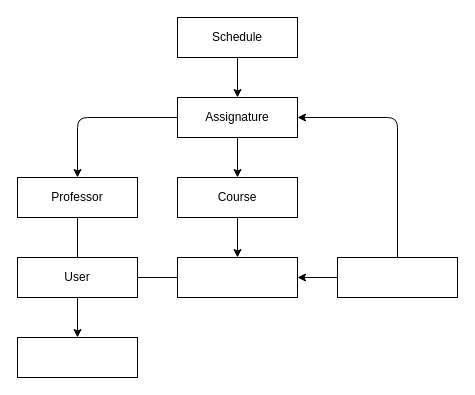
Image size: 475x395. Some labels were removed from this diagram. The shapes that lost their labels are listed below. From the top down, each one's centre as x and y in pixels, then its label:
pixel 237 277: Student
pixel 397 277: Assistance
pixel 77 357: Role
